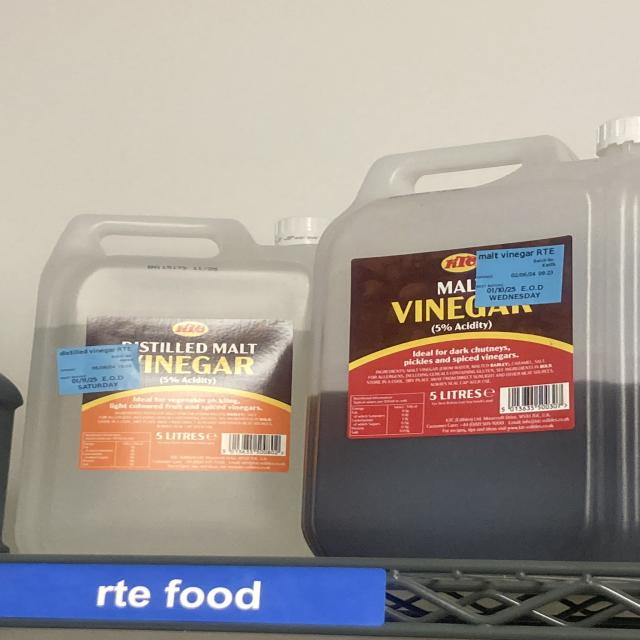product-labels: (477, 245, 566, 308), (57, 344, 140, 395)
